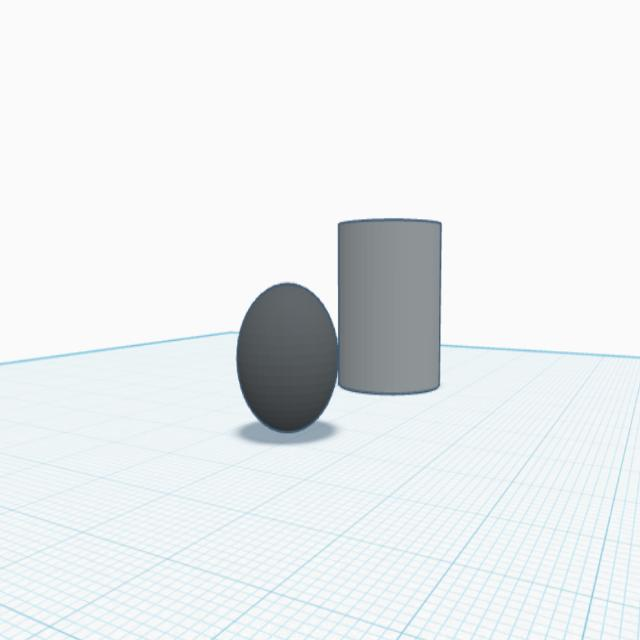sphere: (232, 276, 341, 439)
